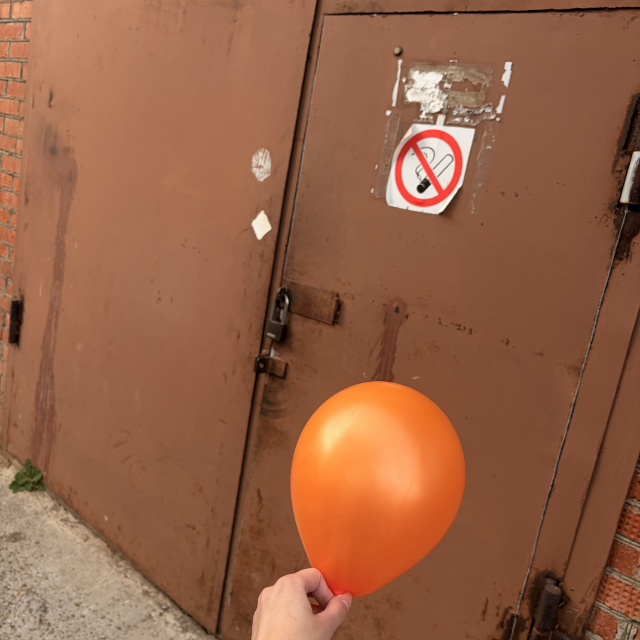balloon: (289, 380, 467, 598)
